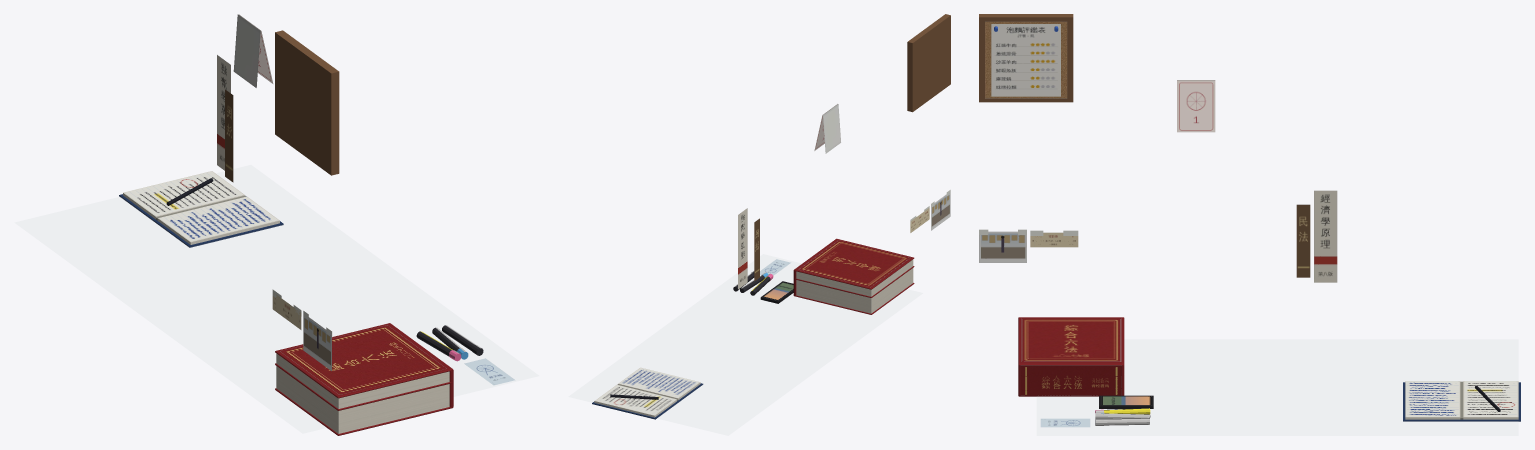
File: dorm_desk_items.glb
3 views of the same model, side by side, from view 1: azimuth 30°, elevation 25°; view 2: azimuth 150°, elevation 25°; view 3: azimuth 270°, elevation 25° (orthographic). The views are drawn at different scales.
Visible parts, largest first — view 1: desk_pad_glass, desk_liufa_409, WALL_left_desk_board, desk_notebook, desk_liufa_203, desk_anniv, desk_highlighters, WALL_left_desk_trip_oldtown, desk_econ, desk_civil, desk_ferris; view 2: desk_pad_glass, desk_liufa_409, WALL_left_desk_board, desk_notebook, desk_liufa_203, desk_anniv, desk_econ, WALL_left_desk_trip_oldtown, desk_phone, desk_highlighters; view 3: desk_pad_glass, desk_liufa_409, WALL_left_desk_kai_sheet, desk_notebook, WALL_left_desk_board, desk_econ, desk_liufa_203, desk_anniv, WALL_left_desk_trip_oldtown, desk_civil, desk_highlighters, desk_phone (+1 smaller).
Boxes of the visible parts, bbox=[...] form: desk_pad_glass: bbox=[16, 165, 538, 432]; desk_liufa_409: bbox=[275, 323, 453, 433]; WALL_left_desk_board: bbox=[275, 30, 339, 175]; desk_notebook: bbox=[119, 171, 283, 247]; desk_liufa_203: bbox=[275, 363, 453, 435]; desk_anniv: bbox=[233, 14, 273, 87]; desk_highlighters: bbox=[416, 325, 483, 361]; WALL_left_desk_trip_oldtown: bbox=[303, 310, 332, 370]; desk_econ: bbox=[217, 55, 230, 170]; desk_civil: bbox=[225, 89, 233, 182]; desk_ferris: bbox=[464, 358, 515, 385]; desk_pad_glass: bbox=[569, 254, 922, 435]; desk_liufa_409: bbox=[793, 238, 914, 312]; WALL_left_desk_board: bbox=[907, 14, 950, 112]; desk_notebook: bbox=[592, 367, 703, 419]; desk_liufa_203: bbox=[793, 266, 914, 314]; desk_anniv: bbox=[814, 104, 840, 153]; desk_econ: bbox=[738, 208, 747, 289]; WALL_left_desk_trip_oldtown: bbox=[931, 189, 950, 230]; desk_phone: bbox=[760, 281, 793, 303]; desk_highlighters: bbox=[733, 271, 773, 295]; desk_pad_glass: bbox=[1037, 340, 1517, 435]; desk_liufa_409: bbox=[1018, 317, 1124, 396]; WALL_left_desk_kai_sheet: bbox=[991, 24, 1060, 96]; desk_notebook: bbox=[1403, 381, 1520, 421]; WALL_left_desk_board: bbox=[979, 14, 1073, 102]; desk_econ: bbox=[1314, 190, 1337, 282]; desk_liufa_203: bbox=[1018, 375, 1124, 396]; desk_anniv: bbox=[1177, 80, 1215, 132]; WALL_left_desk_trip_oldtown: bbox=[979, 229, 1026, 262]; desk_civil: bbox=[1296, 204, 1310, 277]; desk_highlighters: bbox=[1095, 408, 1150, 425]; desk_phone: bbox=[1099, 395, 1153, 408].
Size of the model in its own units: 0.61 by 0.93 by 1.41.
2 materials, 1 textured.
